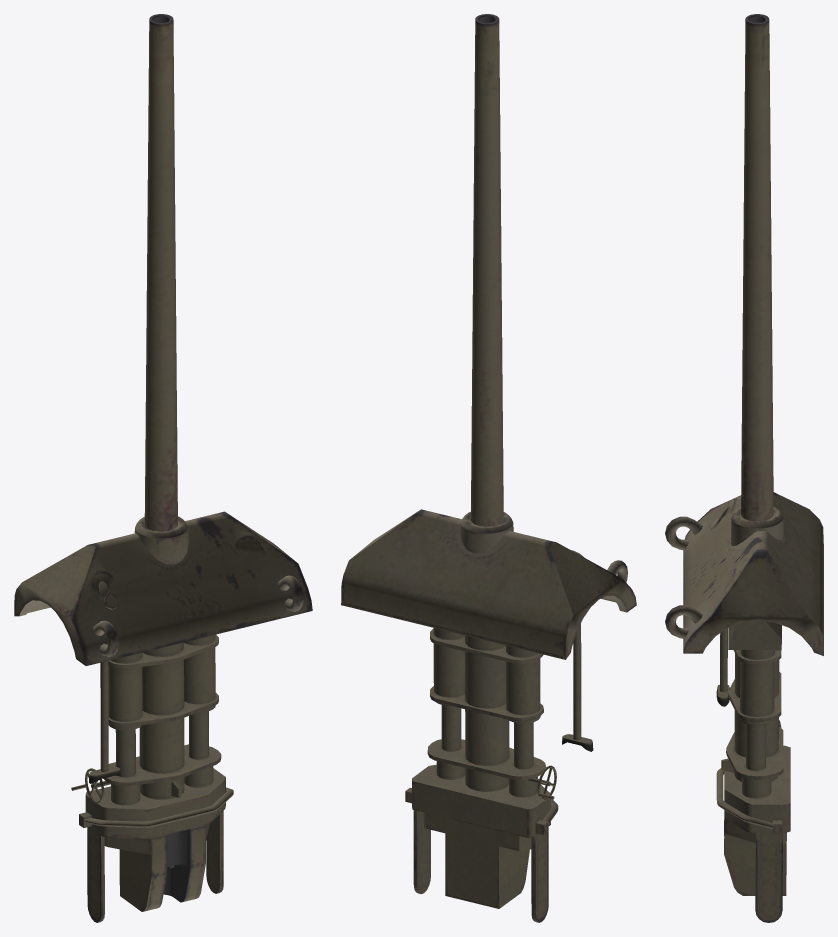
The model's file is Gun_02.glb.
3 renders of one model, left to right at view 1: azimuth 30°, elevation 25°; view 2: azimuth 150°, elevation 25°; view 3: azimuth 270°, elevation 25°, orthographic. The views are drawn at different scales.
Visible parts, largest first — view 1: set_0_group_0; view 2: set_0_group_0; view 3: set_0_group_0.
Boxes of the visible parts, <box> form: set_0_group_0: <box>14,14,312,922</box>; set_0_group_0: <box>341,14,636,922</box>; set_0_group_0: <box>665,14,823,922</box>.
Size of the model in its own units: 1.18 by 4.45 by 0.7329.
Materials: 1 (1 with a texture image).
